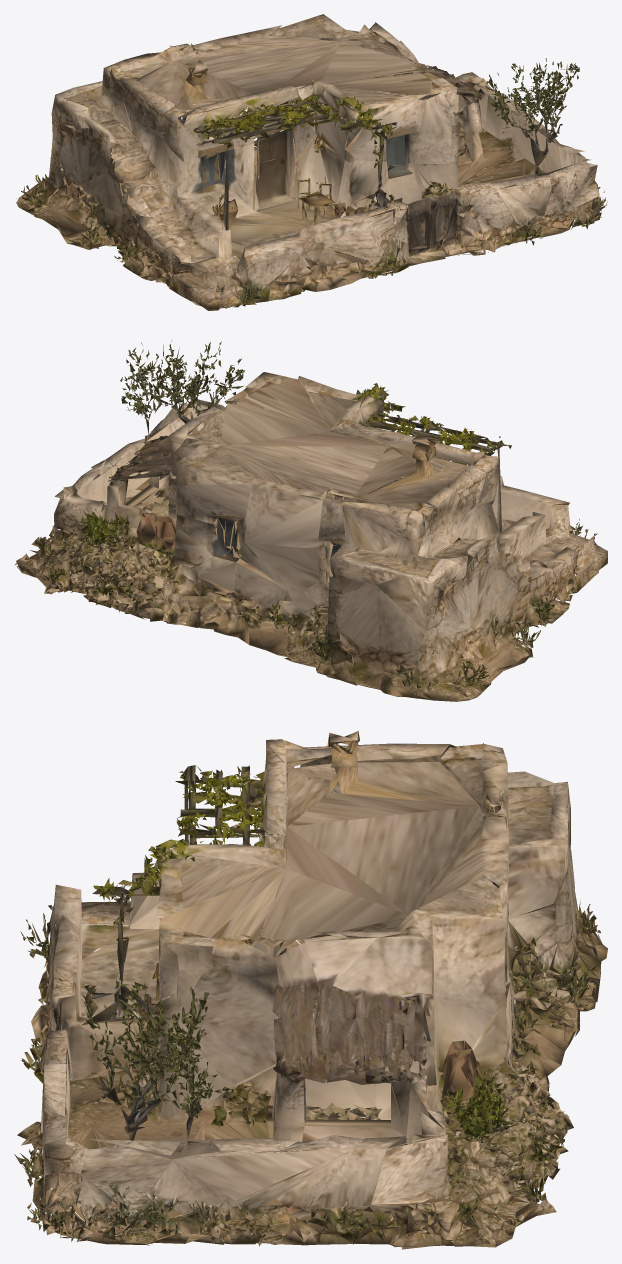
File: Olive_Grove_Cottage_town.glb
The picture shows the model from 3 angles, top to bottom: view 1: azimuth 30°, elevation 25°; view 2: azimuth 150°, elevation 25°; view 3: azimuth 270°, elevation 25°; orthographic projection. The views are drawn at different scales.
Parts seen in each view (by area): view 1: Olive_Grove_Cottage; view 2: Olive_Grove_Cottage; view 3: Olive_Grove_Cottage.
Boxes of the visible parts, x1=… form: Olive_Grove_Cottage: x1=16, y1=14, x2=607, y2=310; Olive_Grove_Cottage: x1=15, y1=341, x2=607, y2=701; Olive_Grove_Cottage: x1=14, y1=731, x2=607, y2=1249.
Size of the model in its own units: 1.81 by 0.6515 by 1.31.
1 material, 1 textured.
